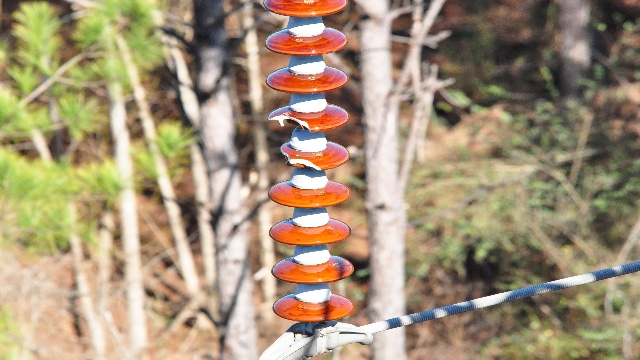broken_local: (279, 144, 324, 173), (268, 113, 316, 134)
insulator_unspecified: (260, 0, 357, 324)
